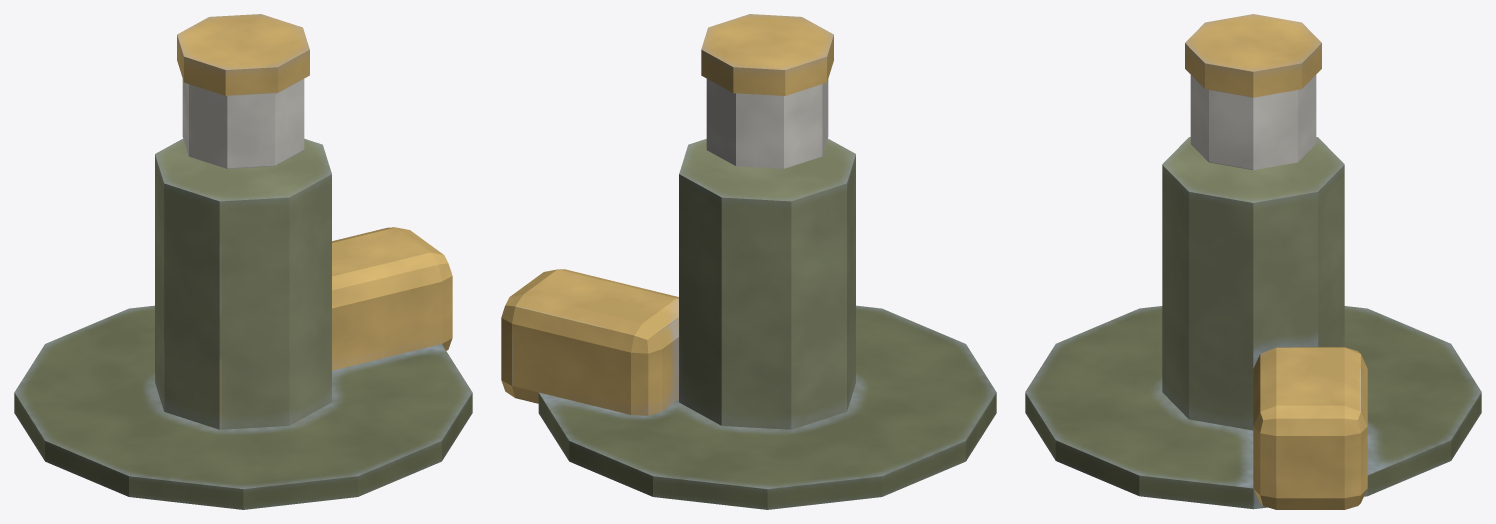
Rendered from com_engineer.glb.
The picture shows the model from 3 angles, left to right: view 1: azimuth 30°, elevation 25°; view 2: azimuth 150°, elevation 25°; view 3: azimuth 270°, elevation 25°; orthographic projection.
Parts seen in each view (by area): view 1: com_engineer; view 2: com_engineer; view 3: com_engineer.
Boxes of the visible parts, x1,y1,x2,y2 form: com_engineer: [14, 14, 472, 509]; com_engineer: [501, 14, 996, 509]; com_engineer: [1025, 14, 1481, 509].
Size of the model in its own units: 0.42 by 0.3575 by 0.4.
Materials: 1 (1 with a texture image).
